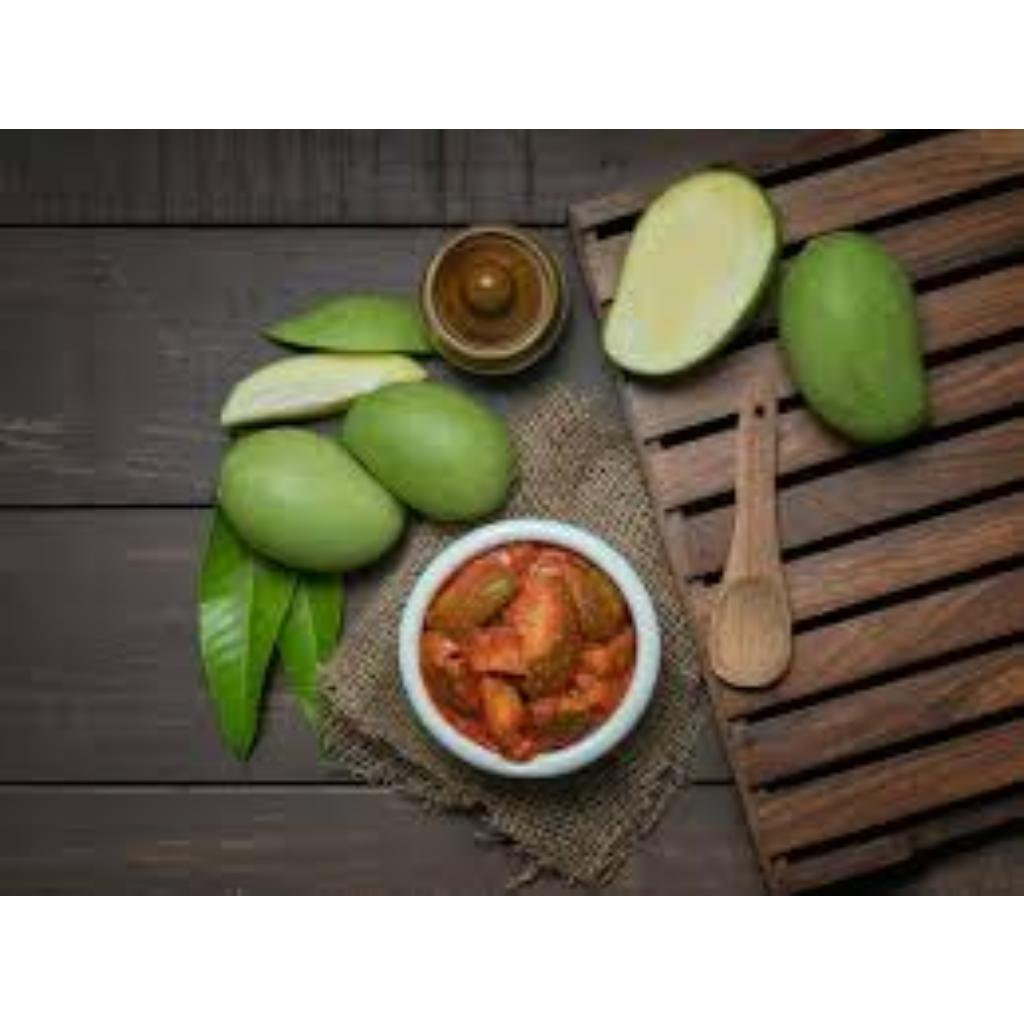mango: (601, 164, 791, 381), (776, 231, 932, 439), (210, 431, 413, 567), (345, 381, 508, 518)
